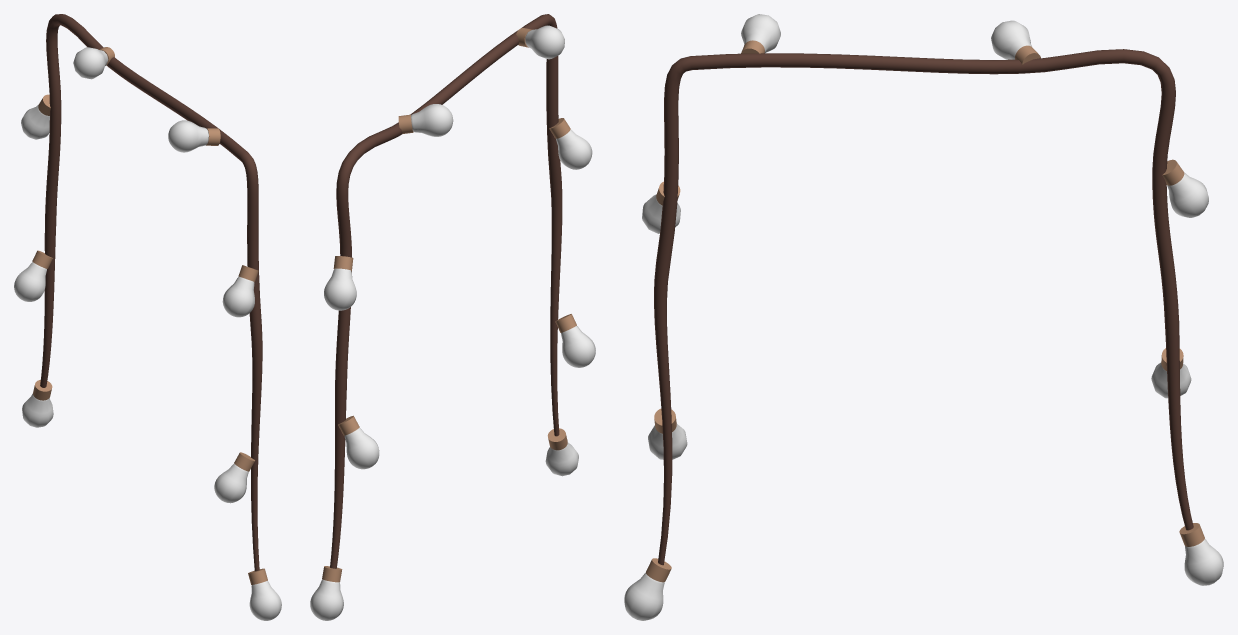
The model's file is MirrorLamps.fbx.
3 views of the same model, side by side, from view 1: azimuth 30°, elevation 25°; view 2: azimuth 150°, elevation 25°; view 3: azimuth 270°, elevation 25° (orthographic). The views are drawn at different scales.
Parts seen in each view (by area): view 1: BézierCurve.006, Lightbulb.016, Lightbulb.015, Lightbulb.018, Lightbulb.017, Lightbulb.011, Lightbulb.014, Lightbulb.013, Lightbulb.012; view 2: BézierCurve.006, Lightbulb.014, Lightbulb.017, Lightbulb.012, Lightbulb.013, Lightbulb.011, Lightbulb.016, Lightbulb.015, Lightbulb.018; view 3: BézierCurve.006, Lightbulb.018, Lightbulb.013, Lightbulb.012, Lightbulb.014, Lightbulb.015, Lightbulb.017.
Part boxes in pixels (<box>): BézierCurve.006: <box>40,14,262,571</box>; Lightbulb.016: <box>222,276,254,317</box>; Lightbulb.015: <box>168,120,208,152</box>; Lightbulb.018: <box>249,580,281,620</box>; Lightbulb.017: <box>214,463,248,503</box>; Lightbulb.011: <box>14,262,46,301</box>; Lightbulb.014: <box>73,47,108,79</box>; Lightbulb.013: <box>22,393,53,427</box>; Lightbulb.012: <box>21,105,49,139</box>; BézierCurve.006: <box>330,14,562,568</box>; Lightbulb.014: <box>411,104,453,136</box>; Lightbulb.017: <box>561,326,595,367</box>; Lightbulb.012: <box>324,268,356,310</box>; Lightbulb.013: <box>310,579,343,620</box>; Lightbulb.011: <box>344,427,379,469</box>; Lightbulb.016: <box>556,129,592,169</box>; Lightbulb.015: <box>525,25,564,59</box>; Lightbulb.018: <box>545,442,578,476</box>; BézierCurve.006: <box>654,49,1193,565</box>; Lightbulb.018: <box>624,572,664,620</box>; Lightbulb.013: <box>1184,539,1223,585</box>; Lightbulb.012: <box>1167,172,1208,217</box>; Lightbulb.014: <box>991,20,1031,59</box>; Lightbulb.015: <box>741,14,780,52</box>; Lightbulb.017: <box>648,423,687,459</box>.
Size of the model in its own units: 12.26 by 88.98 by 83.03.
